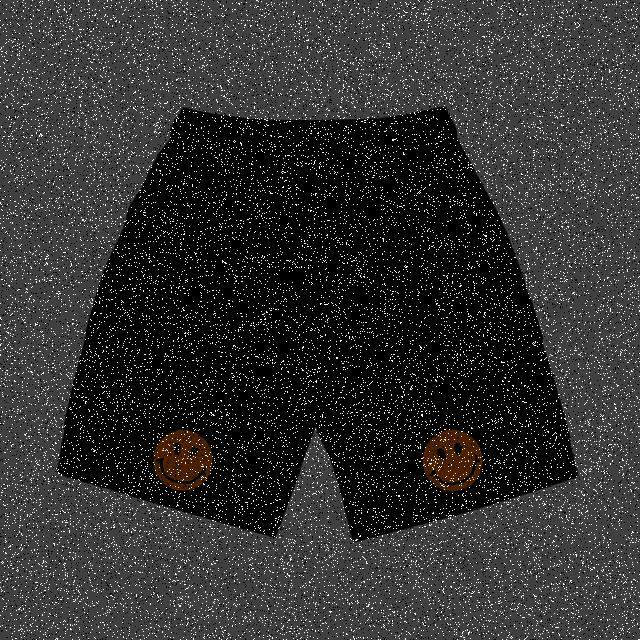dress: (76, 125, 574, 508)
